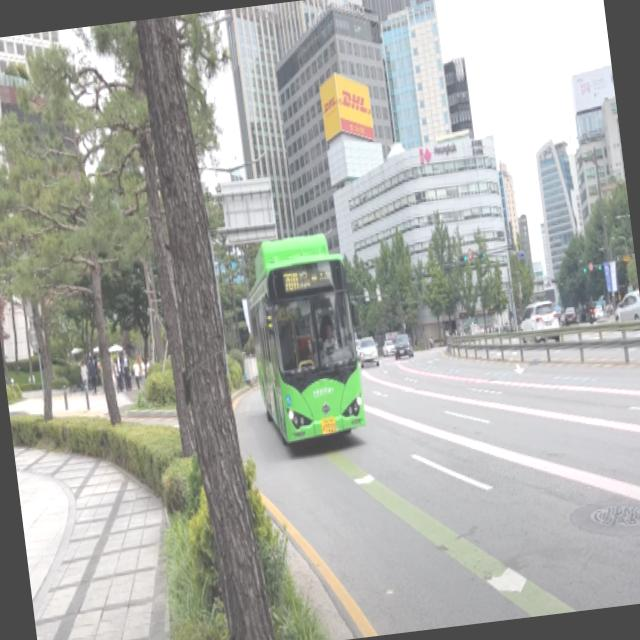bus-number: (282, 270, 300, 292)
